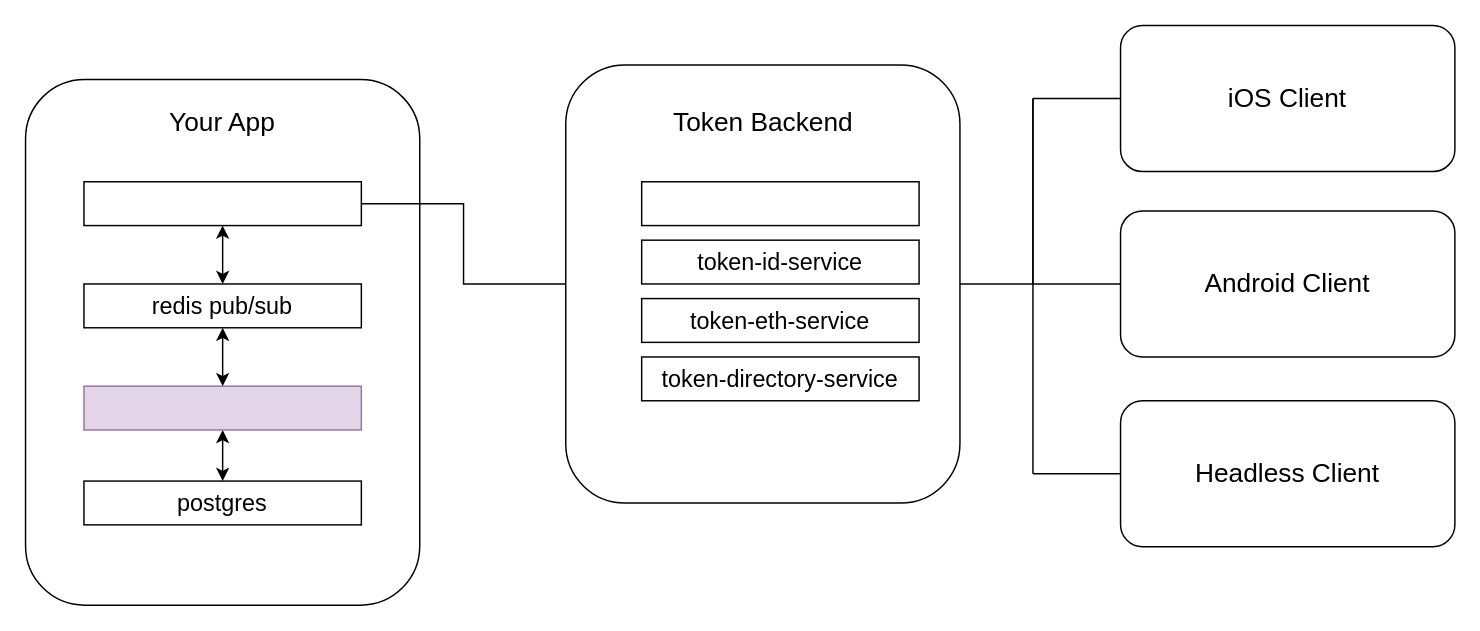
The diagram is 1480 pixels wide and 631 high, and some of its shapes have lost their labels. Each missing label, with the centre of its shape:
token-chat-service: the point at 779,203
token-headless-client: the point at 221,203
your bot.js: the point at 221,407
